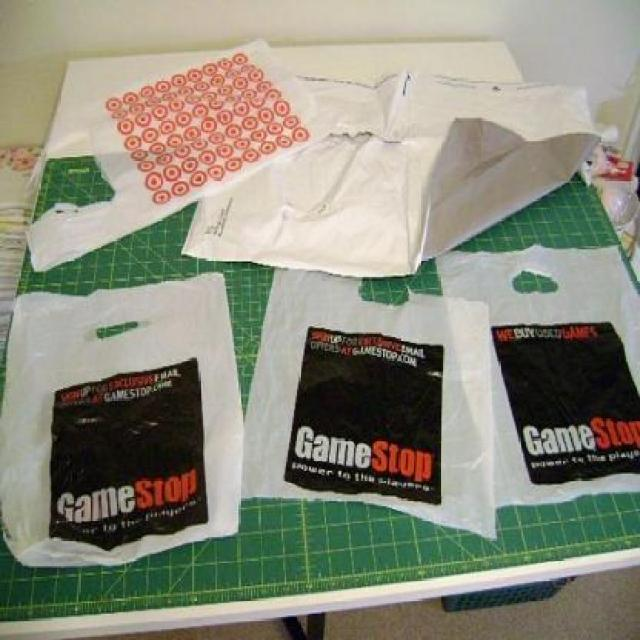plastic bag: (178, 69, 604, 280), (3, 37, 328, 269), (2, 269, 249, 571), (241, 262, 497, 543), (432, 245, 638, 503)
